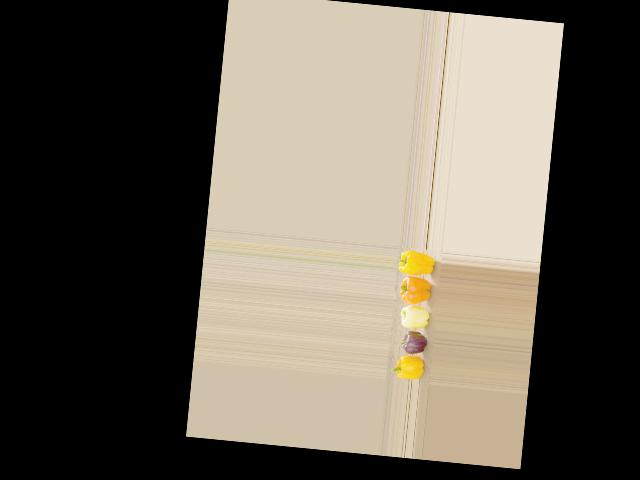bell_pepper: (389, 356, 430, 383)
